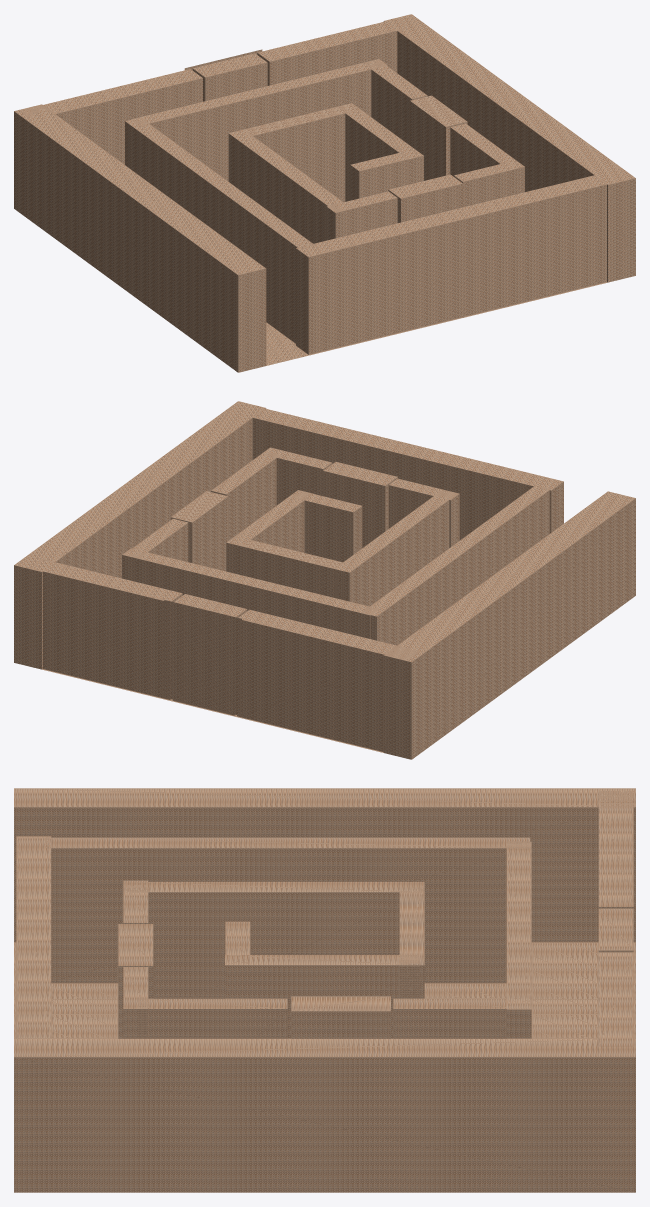
File: Map.fbx
3 renders of one model, top to bottom at view 1: azimuth 30°, elevation 25°; view 2: azimuth 150°, elevation 25°; view 3: azimuth 270°, elevation 25°, orthographic. The views are drawn at different scales.
Visible parts, largest first — view 1: Fence-Front, Fence-Side, Fence-Side001, Fence-Side002, Fence-Front005, Fence-Side005, Fence-Front002, Fence-Front007, Fence-Front001, Fence-Side006, Brock002, Fence-Side003 (+7 smaller); view 2: Fence-Side, Fence-Side001, Fence-Front002, Fence-Front001, Fence-Front, Fence-Side002, Fence-Front005, Plane001, Fence-Side005, Fence-Front007, Fence-Front006, Brock003 (+8 smaller); view 3: Fence-Side001, Fence-Side, Fence-Side002, Fence-Side005, Ground, Fence-Side006, Fence-Front, Fence-Side004, Fence-Front005, Fence-Side003, Brock002, Fence-Front002 (+7 smaller).
Boxes of the visible parts, bbox=[...] form: Fence-Front: bbox=[296, 175, 606, 354]; Fence-Side: bbox=[14, 104, 266, 372]; Fence-Side001: bbox=[383, 14, 635, 282]; Fence-Side002: bbox=[125, 117, 312, 343]; Fence-Front005: bbox=[130, 59, 387, 181]; Fence-Side005: bbox=[228, 129, 343, 243]; Fence-Front002: bbox=[20, 69, 202, 164]; Fence-Front007: bbox=[244, 103, 360, 202]; Fence-Front001: bbox=[257, 18, 409, 85]; Fence-Side006: bbox=[339, 106, 423, 201]; Brock002: bbox=[410, 95, 467, 180]; Fence-Side003: bbox=[367, 60, 427, 144]; Fence-Side: bbox=[383, 491, 635, 759]; Fence-Side001: bbox=[14, 401, 266, 669]; Fence-Front002: bbox=[237, 609, 418, 751]; Fence-Front001: bbox=[30, 559, 182, 699]; Fence-Front: bbox=[252, 408, 563, 540]; Fence-Side002: bbox=[361, 486, 550, 645]; Fence-Front005: bbox=[122, 548, 378, 638]; Plane001: bbox=[164, 600, 241, 716]; Fence-Side005: bbox=[334, 492, 456, 606]; Fence-Front007: bbox=[226, 540, 347, 599]; Fence-Front006: bbox=[293, 491, 362, 562]; Brock003: bbox=[323, 462, 397, 547]; Fence-Side001: bbox=[14, 1038, 635, 1192]; Fence-Side: bbox=[14, 788, 635, 942]; Fence-Side002: bbox=[45, 837, 530, 983]; Fence-Side005: bbox=[126, 882, 424, 998]; Ground: bbox=[14, 942, 635, 1038]; Fence-Side006: bbox=[225, 955, 418, 1038]; Fence-Front: bbox=[16, 836, 51, 1038]; Fence-Side004: bbox=[138, 998, 287, 1038]; Fence-Front005: bbox=[506, 841, 531, 1038]; Fence-Side003: bbox=[393, 998, 529, 1038]; Brock002: bbox=[291, 996, 390, 1038]; Fence-Front002: bbox=[598, 791, 633, 908].
Bounding box in the file's own units: 256 × 250 × 61.
Materials: 1 (1 with a texture image).
